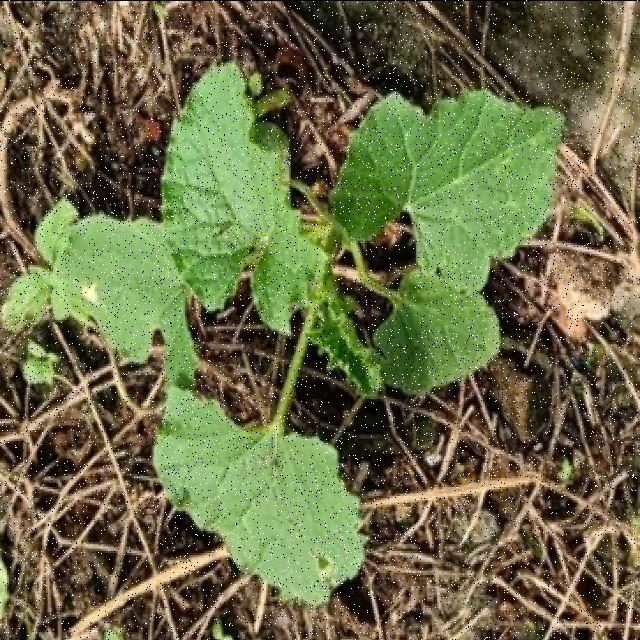plant: (2, 62, 562, 602)
